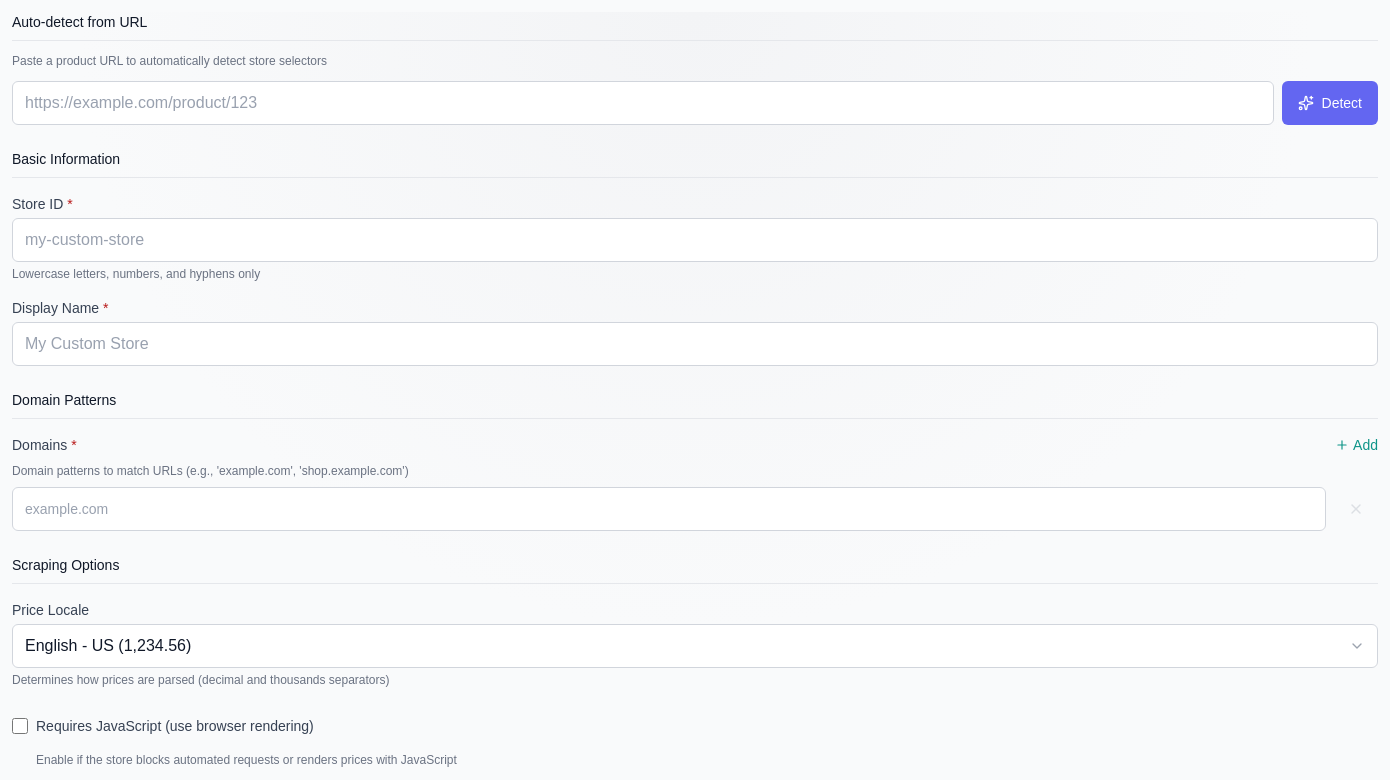
Test: StoreForm › auto-detect › should show error on API exception
In the field with test id "detect-url-input": (643, 103) left=12, top=81, right=1274, bottom=125, type "https://example.com"
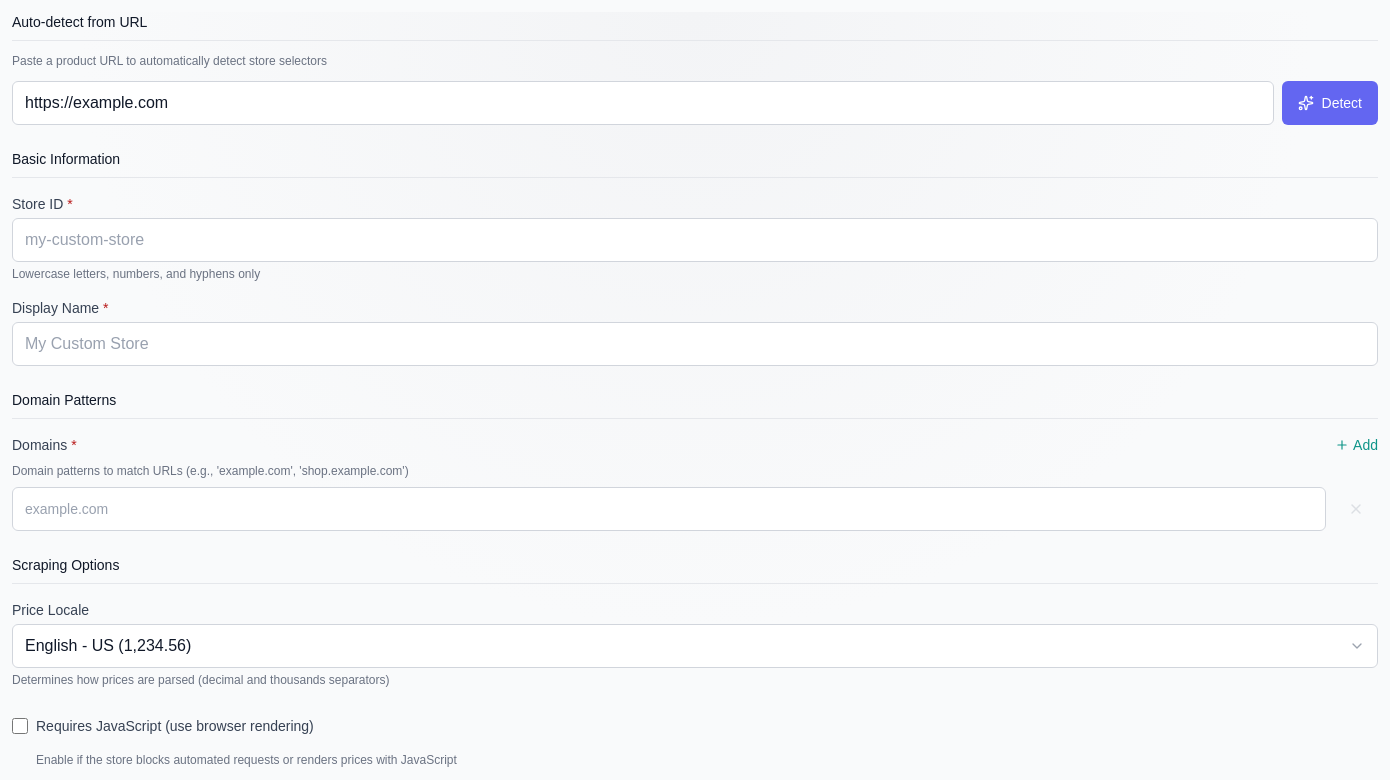
Click the button with test id "detect-button": (1330, 103) left=1282, top=81, right=1378, bottom=125
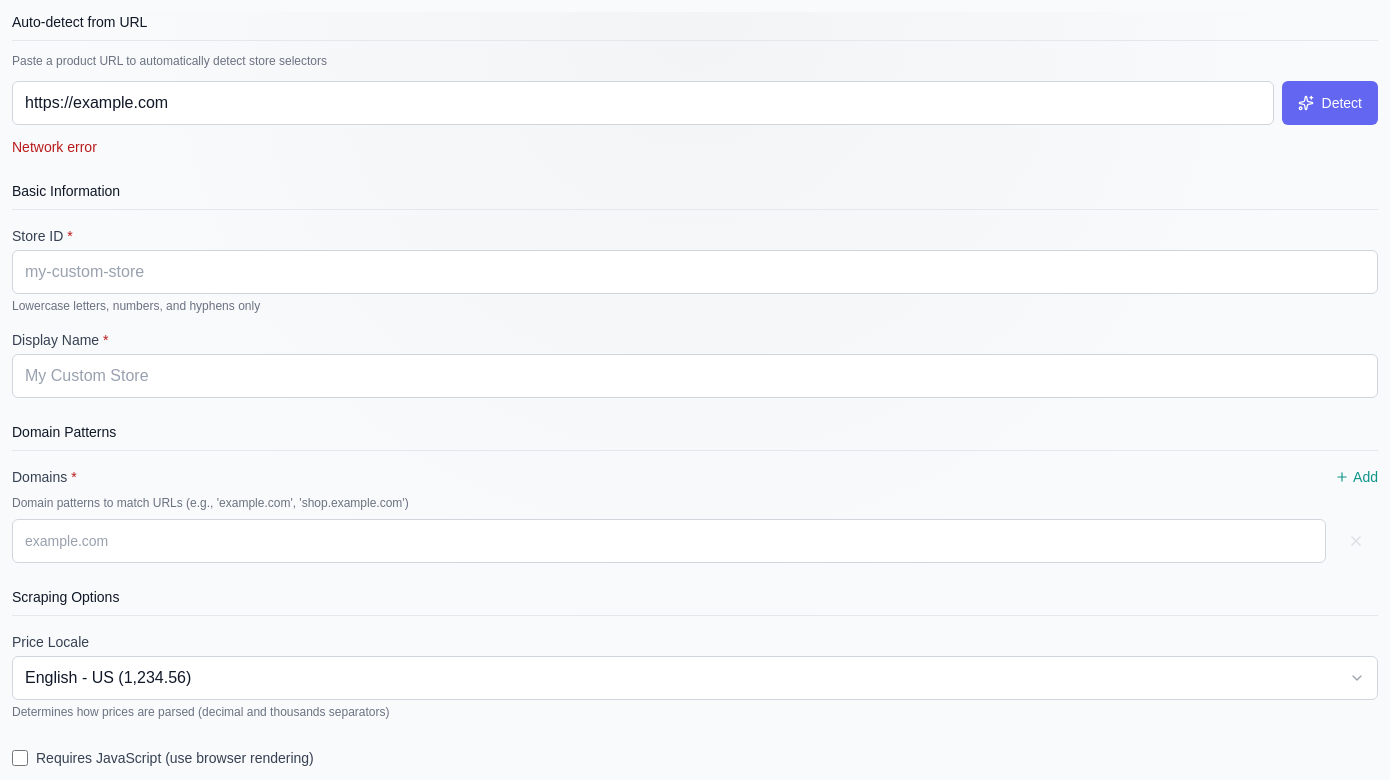
Expected: the element with test id "detect-error" reads "Network error", left=12, top=139, right=97, bottom=155
